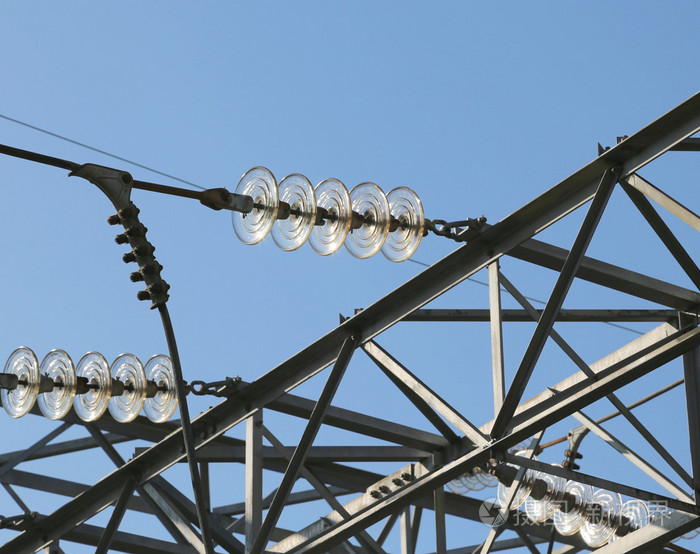insulator: (233, 164, 426, 266), (497, 450, 652, 549), (3, 345, 180, 426)
